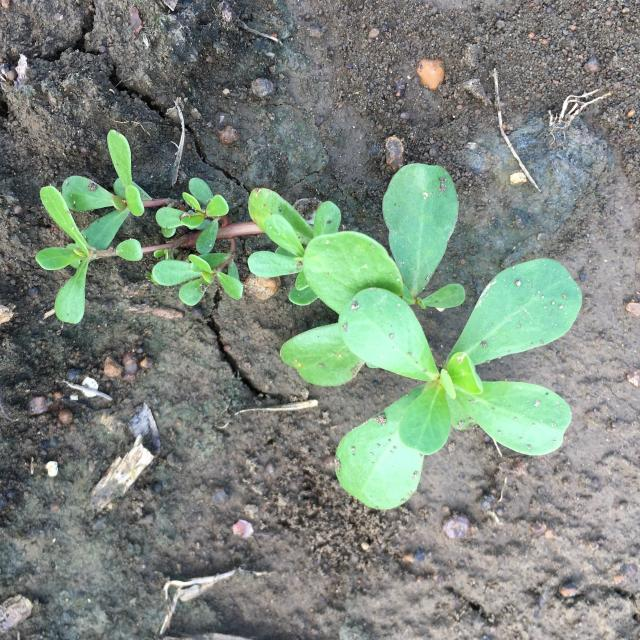Purslane: (36, 130, 583, 511)
